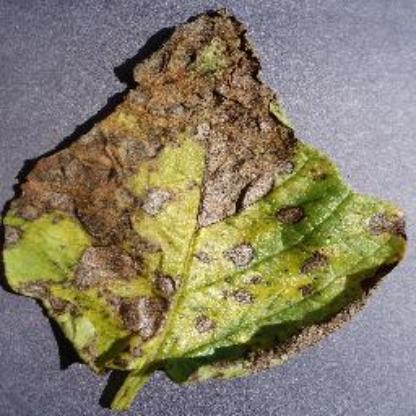Early-Blight: (0, 1, 416, 411)
